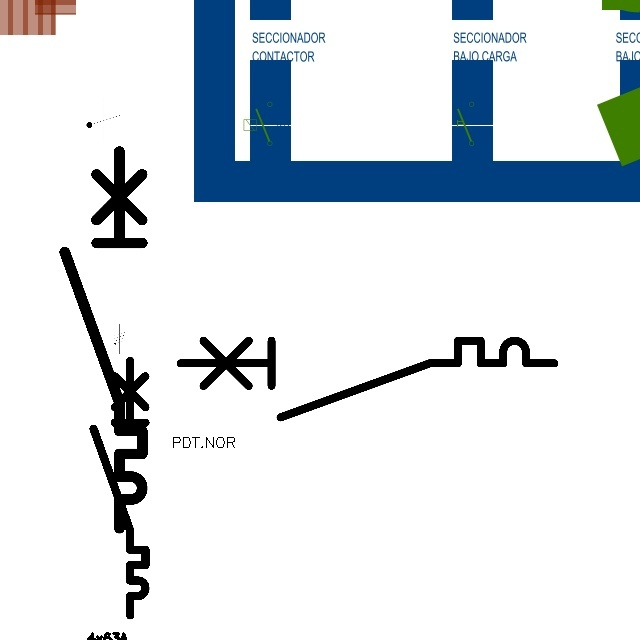interruptor_termomagnetico: (55, 141, 152, 538), (171, 331, 564, 427), (87, 354, 152, 622)
